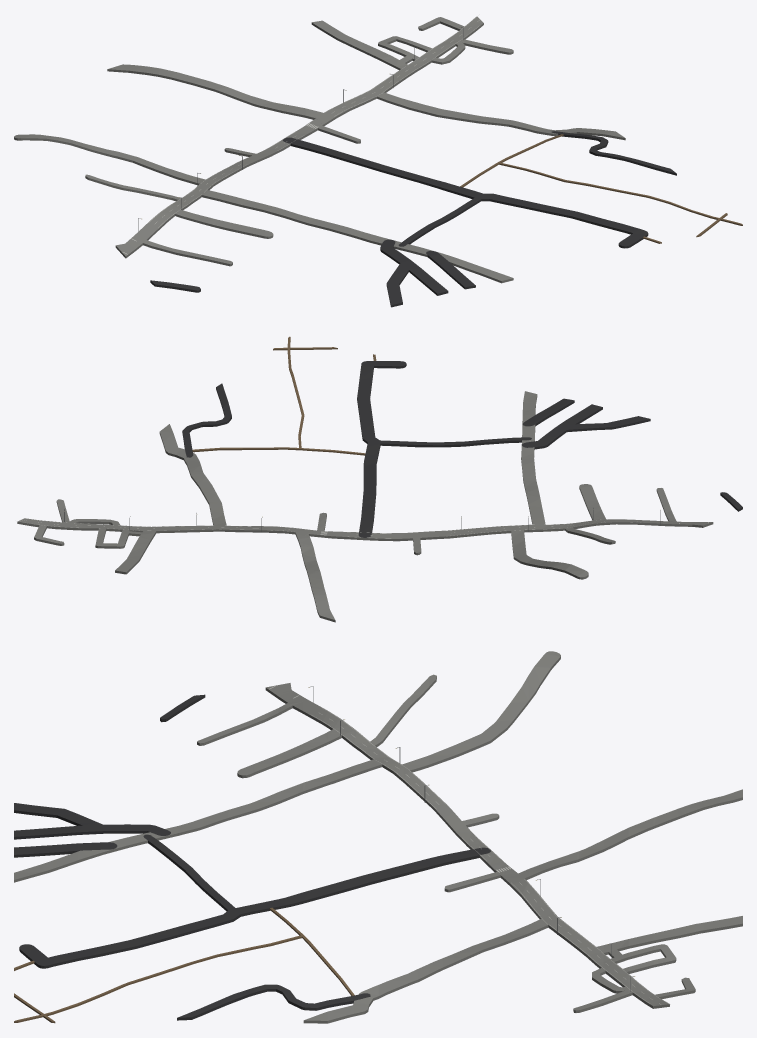
The picture shows the model from 3 angles, top to bottom: view 1: azimuth 30°, elevation 25°; view 2: azimuth 150°, elevation 25°; view 3: azimuth 270°, elevation 25°; orthographic projection. The views are drawn at different scales.
Size of the model in its own units: 295 by 30.83 by 291.
